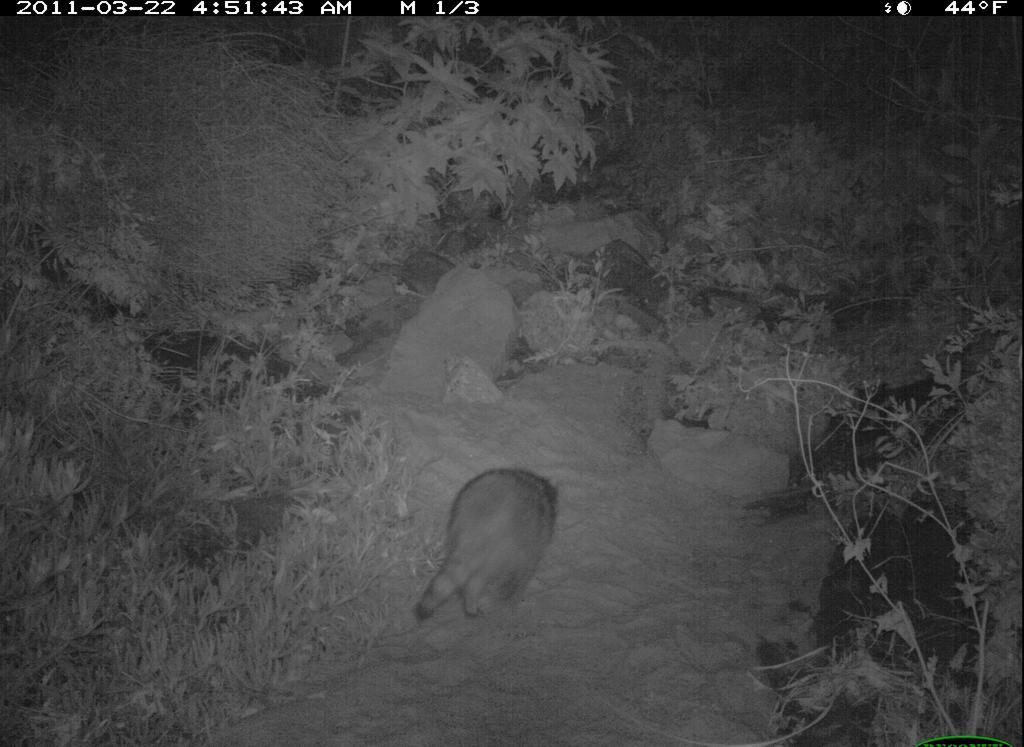raccoon: (406, 461, 564, 633)
